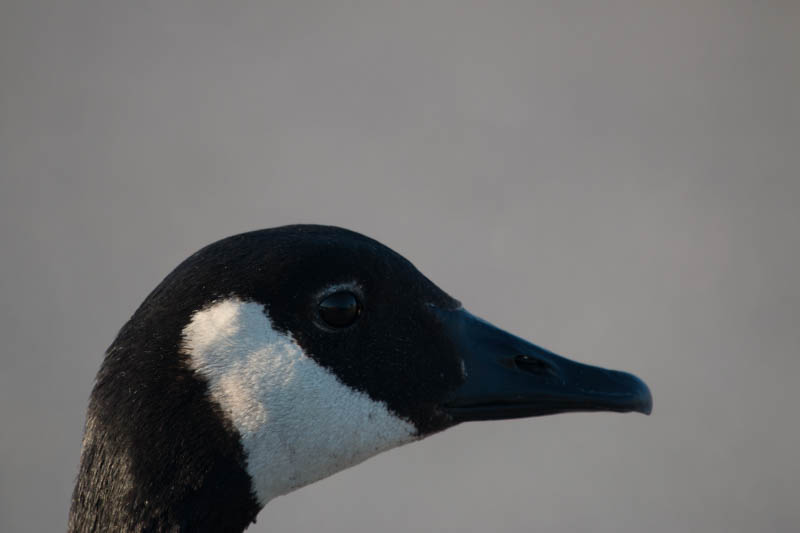goose-head: (70, 225, 654, 507)
